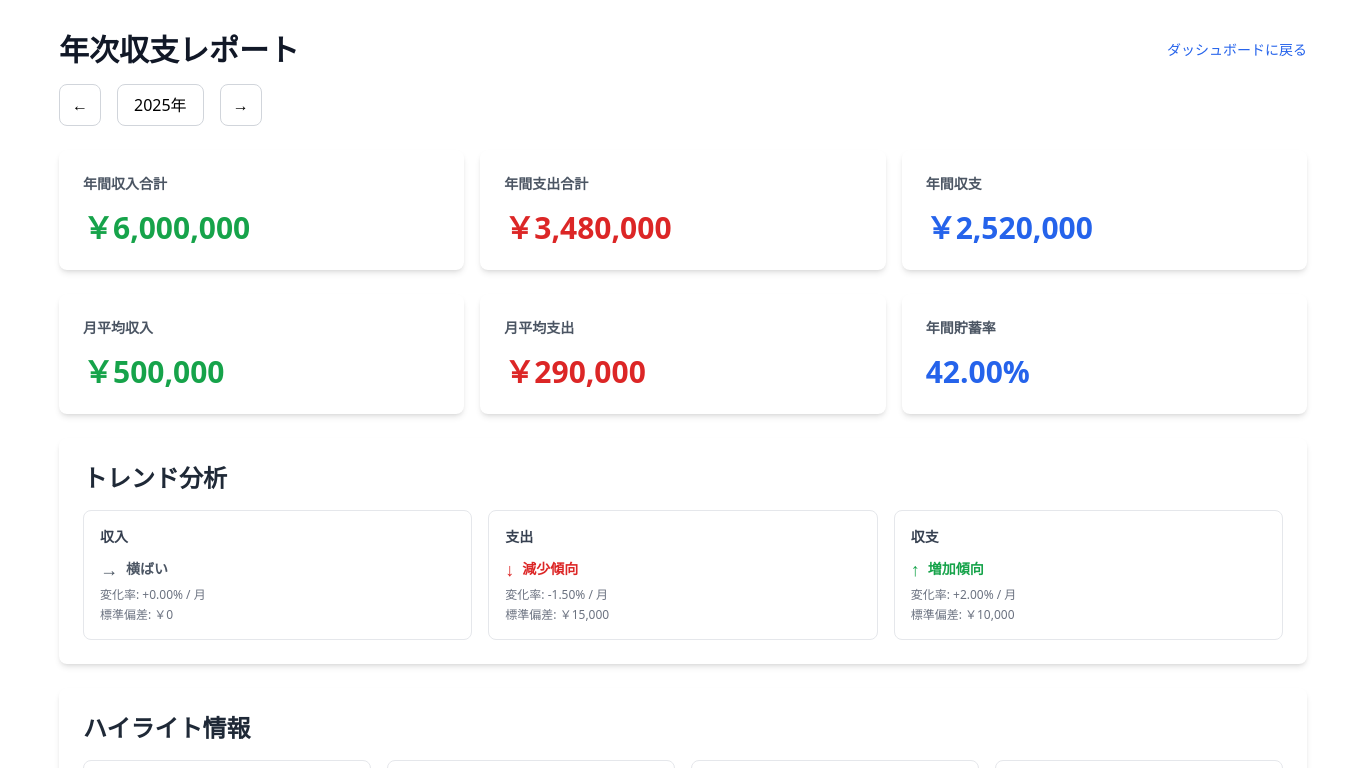
Test: YearlyBalanceReportPage › 年選択ボタンをクリックするとモーダルが表示される
Expected: the heading "年次収支レポート" is shown, [59,32,299,68]
# 年選択ボタンをクリック
Click the button "2025年" at (160, 105), box [117,84,204,126]
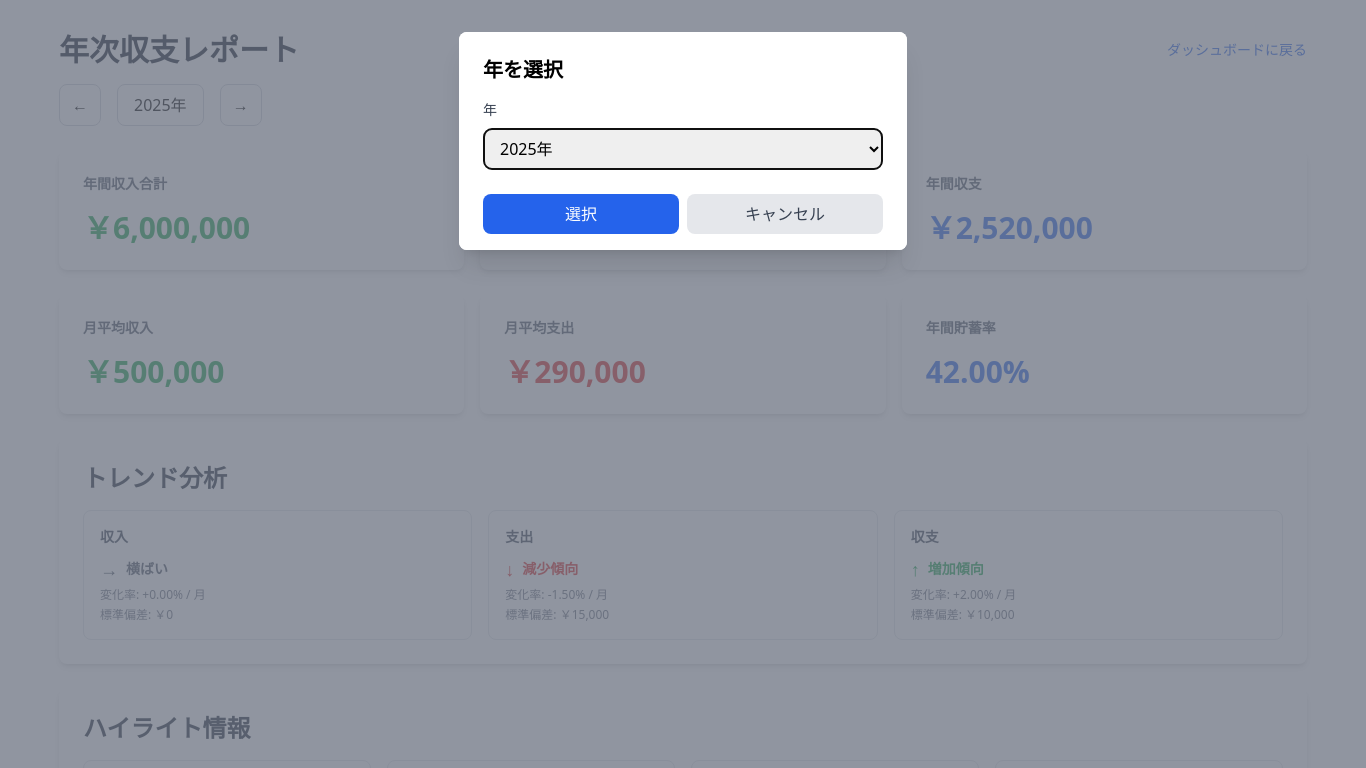
Result: the heading "年を選択" is shown at [483,56,563,83]
